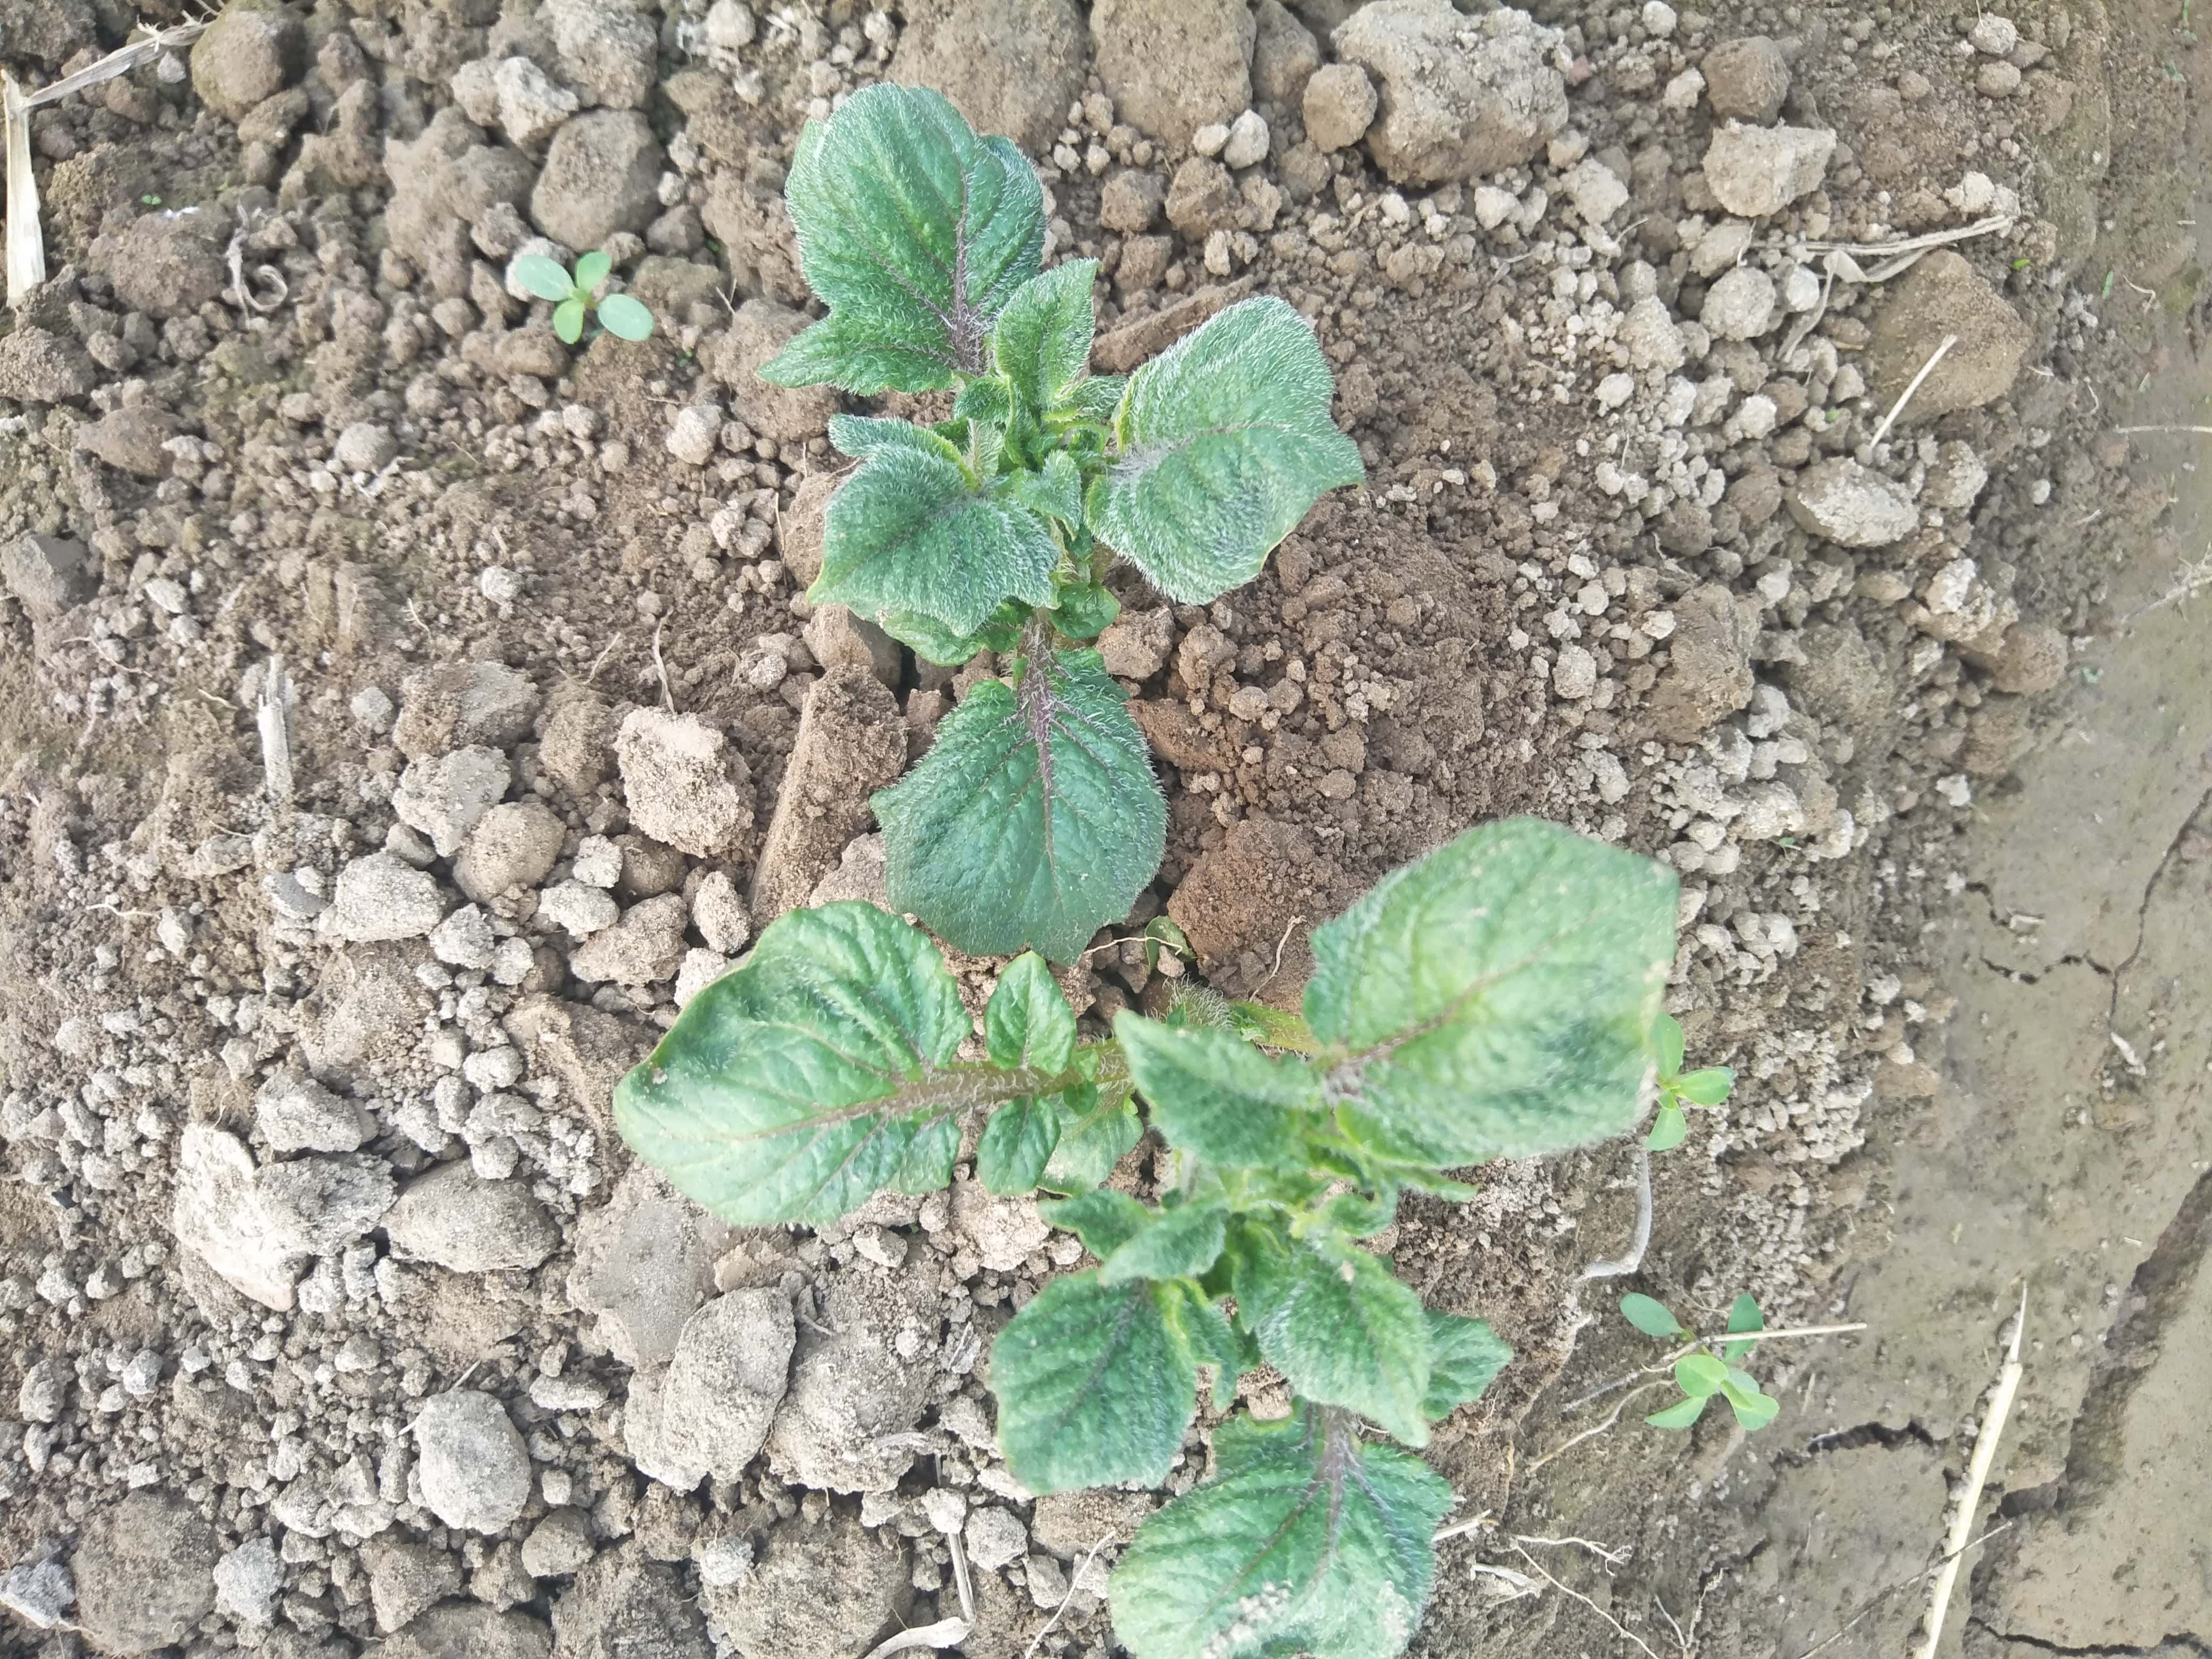daun: (1315, 816, 1662, 1169), (613, 899, 961, 1223), (1099, 291, 1357, 592), (796, 85, 1043, 387), (894, 674, 1158, 951), (1099, 1445, 1440, 1652), (1224, 1209, 1433, 1450), (995, 1249, 1205, 1485), (799, 460, 1040, 627), (1120, 1014, 1334, 1173), (989, 258, 1092, 416), (984, 951, 1069, 1073), (989, 1087, 1066, 1190)
